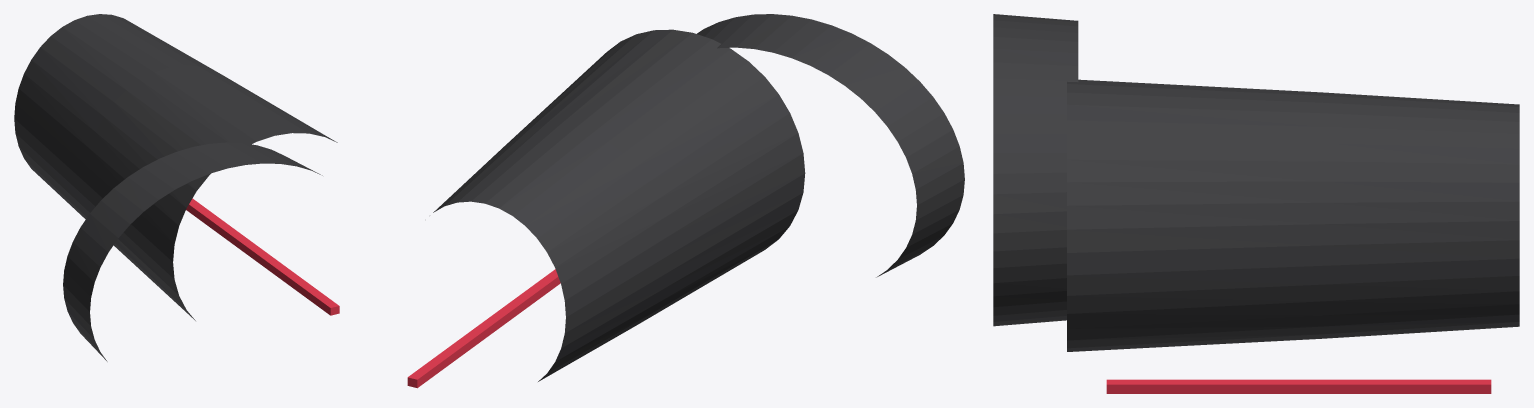
The model's file is calca_treino.glb.
3 views of the same model, side by side, from view 1: azimuth 30°, elevation 25°; view 2: azimuth 150°, elevation 25°; view 3: azimuth 270°, elevation 25° (orthographic). The views are drawn at different scales.
Parts seen in each view (by area): view 1: PantLeg, Waistband, Red_Side_Stripe; view 2: PantLeg, Waistband, Red_Side_Stripe; view 3: PantLeg, Waistband, Red_Side_Stripe.
Boxes of the visible parts, x1,y1,x2,y2 form: PantLeg: [14, 14, 337, 320]; Waistband: [63, 142, 322, 361]; Red_Side_Stripe: [186, 198, 339, 315]; PantLeg: [433, 29, 805, 381]; Waistband: [697, 14, 964, 277]; Red_Side_Stripe: [407, 269, 560, 388]; PantLeg: [1067, 79, 1519, 351]; Waistband: [993, 14, 1078, 326]; Red_Side_Stripe: [1106, 379, 1491, 393].
Bounding box in the file's own units: 0.78 × 0.52 × 0.93.
